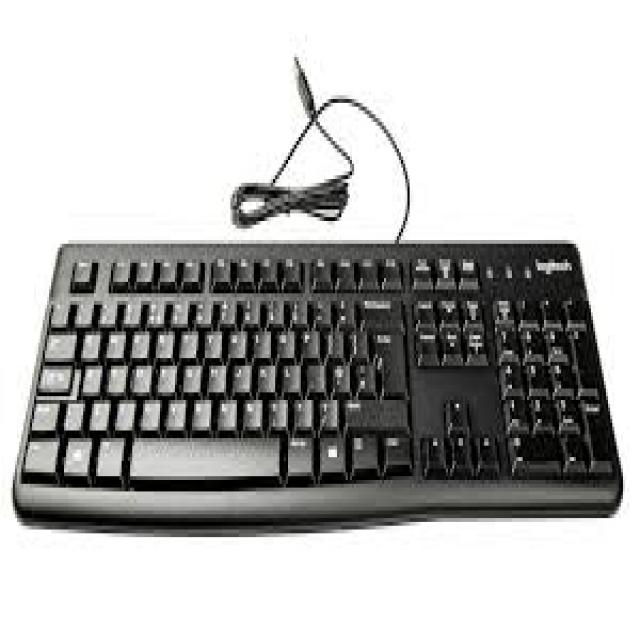others: (6, 194, 632, 549)
